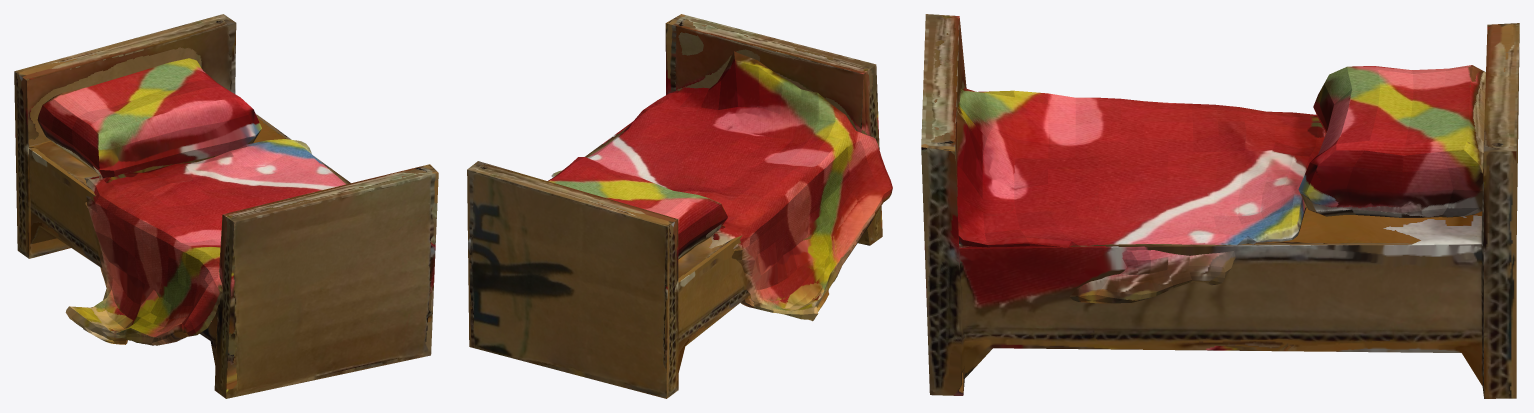
The model's file is Säng.fbx.
3 renders of one model, left to right at view 1: azimuth 30°, elevation 25°; view 2: azimuth 150°, elevation 25°; view 3: azimuth 270°, elevation 25°, orthographic. The views are drawn at different scales.
Parts seen in each view (by area): view 1: Cube.002; view 2: Cube.002; view 3: Cube.002.
Boxes of the visible parts, bbox=[...] form: Cube.002: bbox=[14, 14, 438, 398]; Cube.002: bbox=[467, 14, 892, 398]; Cube.002: bbox=[921, 14, 1519, 398].
Bounding box in the file's own units: 34.94 × 23.4 × 49.49.
Materials: 1 (1 with a texture image).
